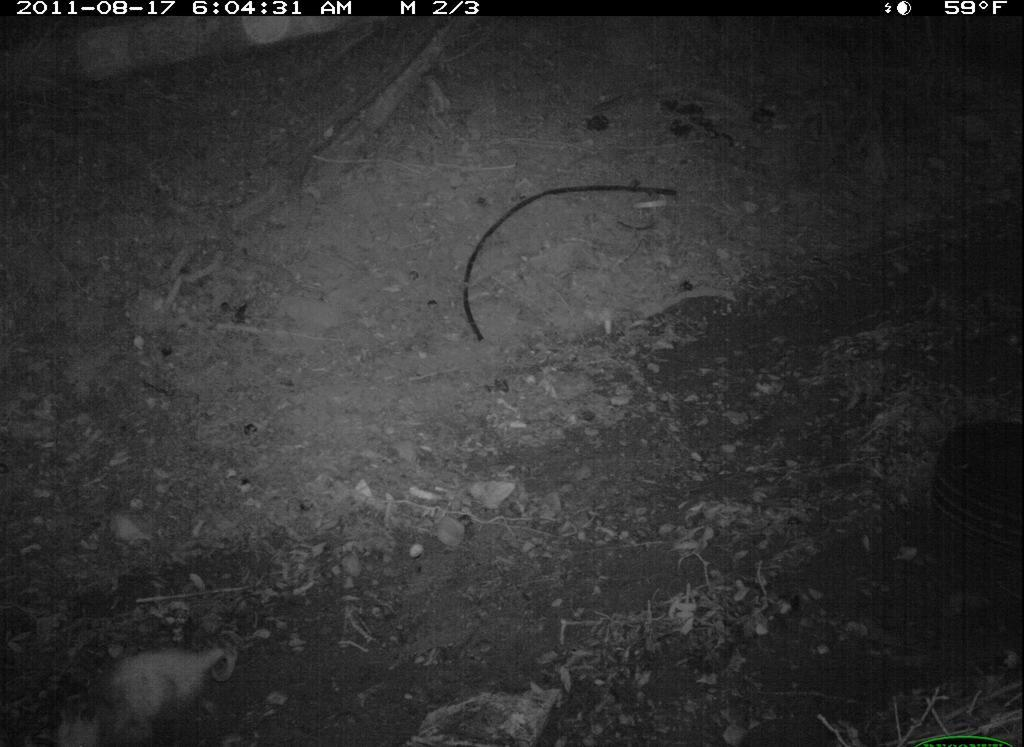opossum: (40, 624, 262, 747)
